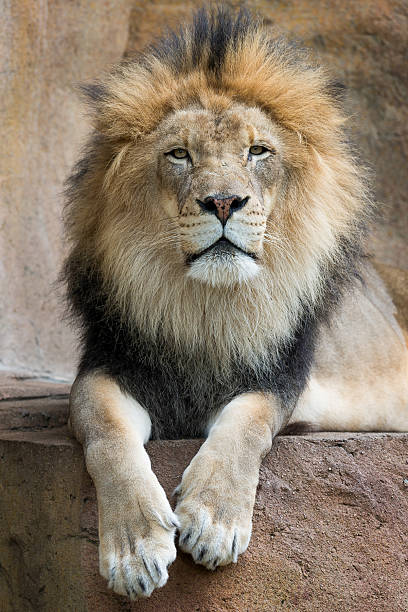lion: (21, 3, 404, 430)
